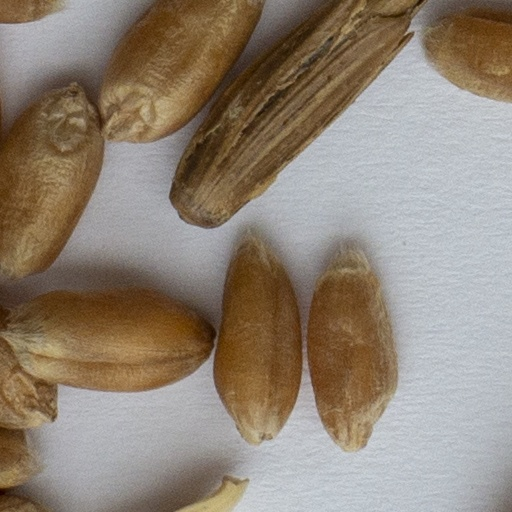Peel-poly: (169, 0, 423, 225), (169, 474, 245, 511)
